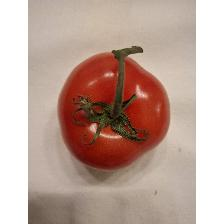Tomate: (54, 46, 174, 174)
